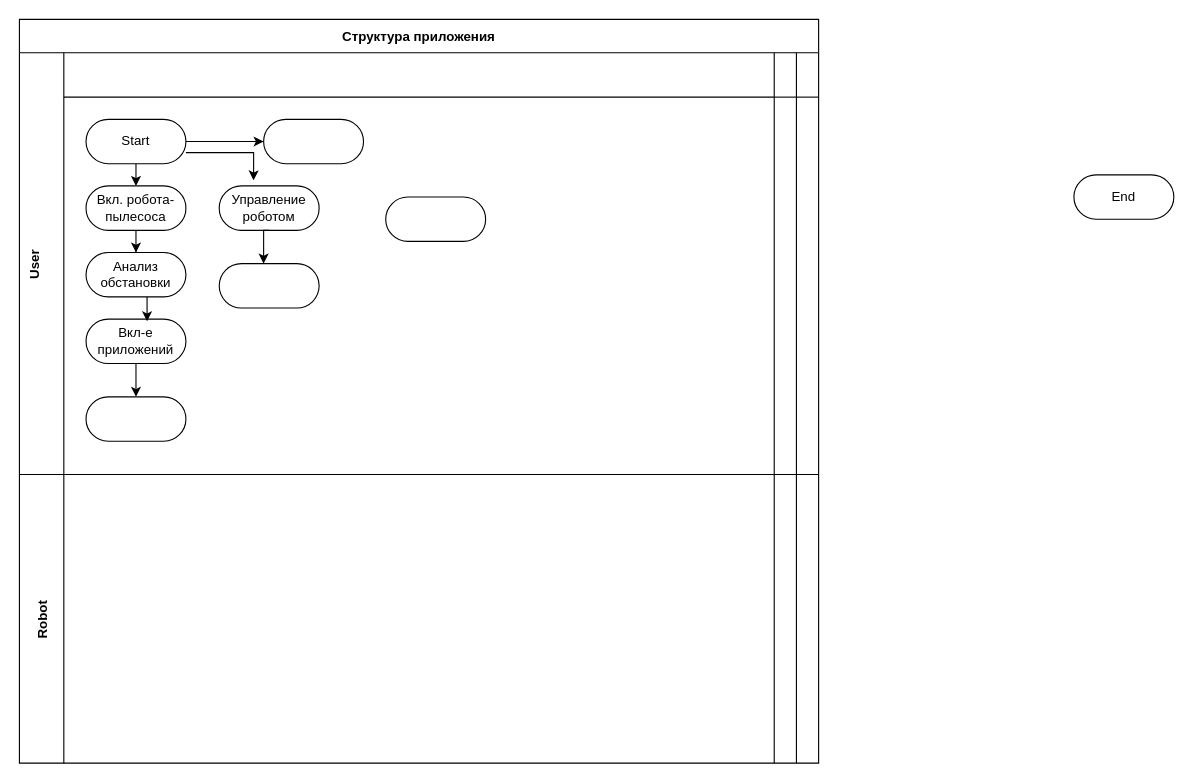
This 1193x783 diagram has some shape labels left out. Here are the shapes that lost their labels. From the top down, the centre of each, then its label:
the point at 313,141: Запрос на выполнение уборки
the point at 435,218: Остановка уборки, выключение
the point at 268,285: Выбор режима уборки
the point at 135,418: Проверка обновлений
